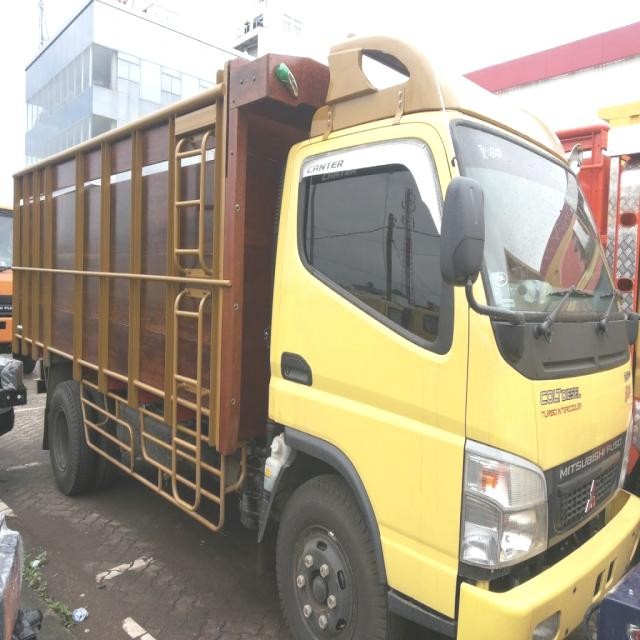truck: (14, 36, 640, 640)
